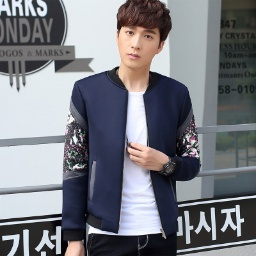face: (114, 1, 173, 70)
